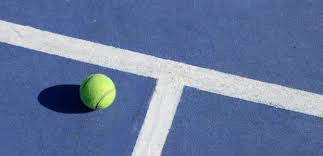tennis_ball: (81, 72, 112, 107)
